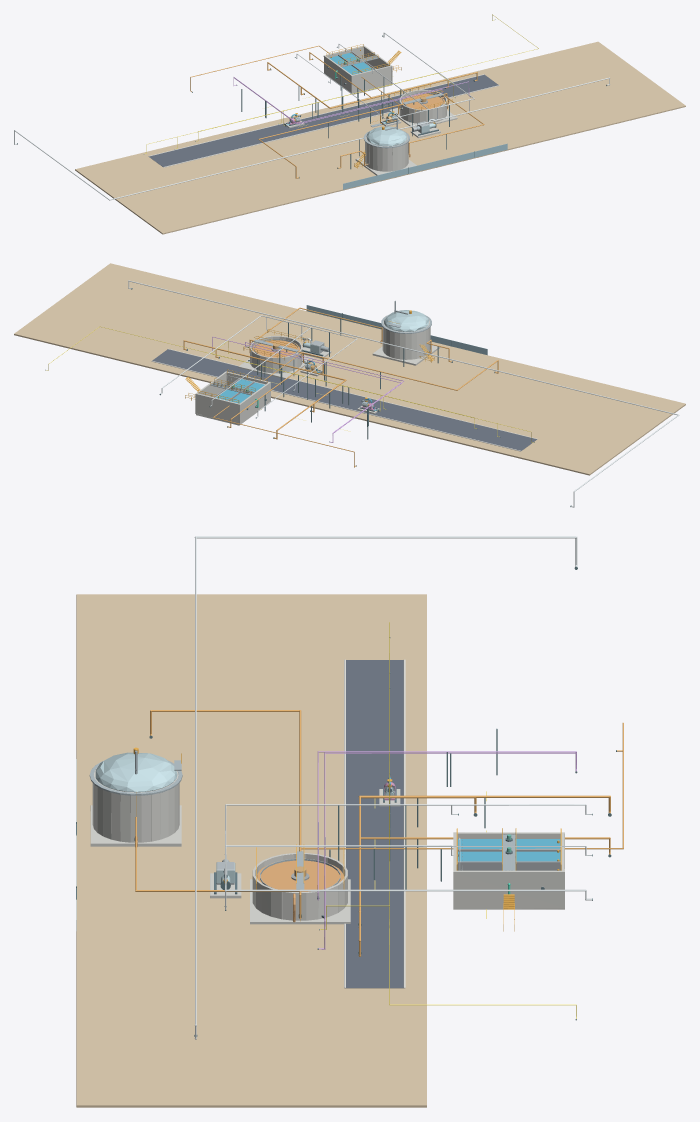
3 views of the same model, one above another, from view 1: azimuth 30°, elevation 25°; view 2: azimuth 150°, elevation 25°; view 3: azimuth 270°, elevation 25° (orthographic). The views are drawn at different scales.
Parts seen in each view (by area): view 1: render-batch-16, render-batch-15, render-batch-4, render-batch-20, render-batch-21, render-batch-7, render-batch-22, render-batch-19, render-batch-11, render-batch-5, render-batch-9, render-batch-23 (+3 smaller); view 2: render-batch-16, render-batch-15, render-batch-4, render-batch-20, render-batch-21, render-batch-22, render-batch-19, render-batch-11, render-batch-7, render-batch-5, render-batch-9, render-batch-23 (+3 smaller); view 3: render-batch-16, render-batch-4, render-batch-15, render-batch-20, render-batch-21, render-batch-11, render-batch-18, render-batch-3, render-batch-9, render-batch-19, render-batch-13, render-batch-8 (+3 smaller).
Boxes of the visible parts, left/top/right/bottom form: render-batch-16: left=75, top=41, right=685, bottom=234; render-batch-15: left=284, top=45, right=457, bottom=175; render-batch-4: left=149, top=74, right=498, bottom=166; render-batch-20: left=14, top=32, right=610, bottom=200; render-batch-21: left=190, top=45, right=484, bottom=178; render-batch-7: left=343, top=143, right=507, bottom=189; render-batch-22: left=294, top=44, right=452, bottom=168; render-batch-19: left=148, top=74, right=499, bottom=167; render-batch-11: left=290, top=116, right=435, bottom=146; render-batch-5: left=17, top=19, right=607, bottom=178; render-batch-9: left=286, top=55, right=443, bottom=148; render-batch-23: left=145, top=14, right=538, bottom=153; render-batch-16: left=14, top=263, right=685, bottom=475; render-batch-15: left=195, top=318, right=440, bottom=425; render-batch-4: left=152, top=349, right=536, bottom=450; render-batch-20: left=128, top=280, right=679, bottom=507; render-batch-21: left=183, top=307, right=498, bottom=467; render-batch-22: left=185, top=310, right=434, bottom=406; render-batch-19: left=151, top=348, right=537, bottom=451; render-batch-11: left=303, top=310, right=428, bottom=407; render-batch-7: left=306, top=305, right=487, bottom=355; render-batch-5: left=45, top=288, right=571, bottom=506; render-batch-9: left=210, top=300, right=431, bottom=411; render-batch-23: left=46, top=326, right=533, bottom=442; render-batch-16: left=76, top=594, right=426, bottom=1107; render-batch-4: left=345, top=660, right=404, bottom=988; render-batch-15: left=90, top=768, right=564, bottom=924; render-batch-20: left=194, top=536, right=592, bottom=1039; render-batch-21: left=135, top=710, right=623, bottom=956; render-batch-11: left=95, top=752, right=393, bottom=883; render-batch-18: left=135, top=836, right=343, bottom=922; render-batch-3: left=388, top=777, right=560, bottom=861; render-batch-9: left=89, top=750, right=542, bottom=889; render-batch-19: left=344, top=659, right=405, bottom=988; render-batch-13: left=317, top=751, right=576, bottom=949; render-batch-8: left=291, top=848, right=560, bottom=880.
Bounding box in the file's own units: 169 × 13.2 × 73.47.
